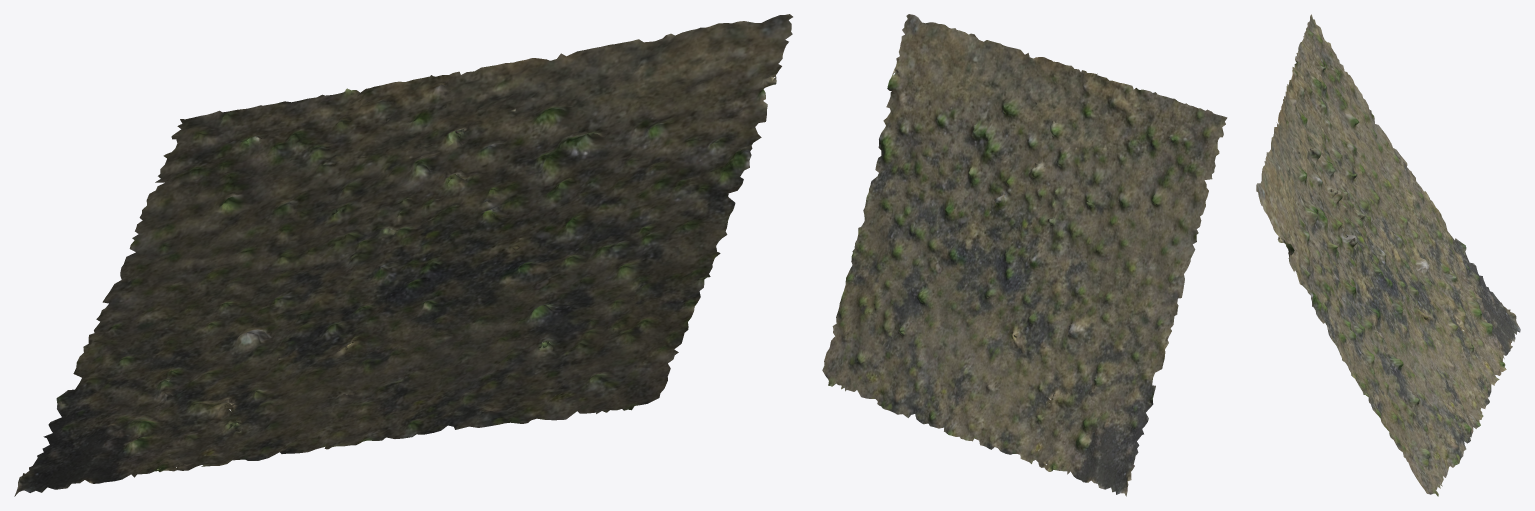
File: tile_26.obj
3 views of the same model, side by side, from view 1: azimuth 30°, elevation 25°; view 2: azimuth 150°, elevation 25°; view 3: azimuth 270°, elevation 25° (orthographic). The views are drawn at different scales.
Size of the model in its own units: 1.14 by 0.9495 by 0.7227.
1 material, 1 textured.
